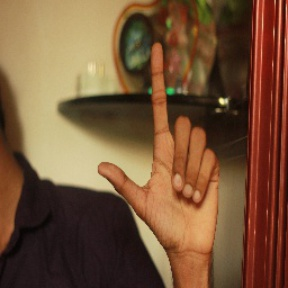L: (96, 40, 223, 249)
